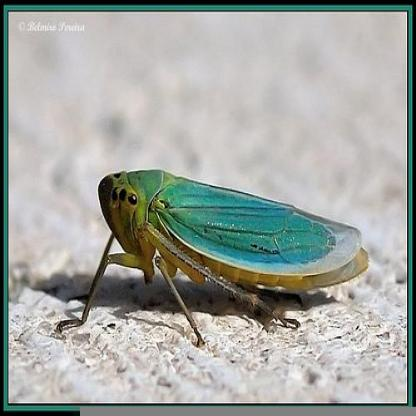Green-Leafhopper: (58, 170, 373, 343)
